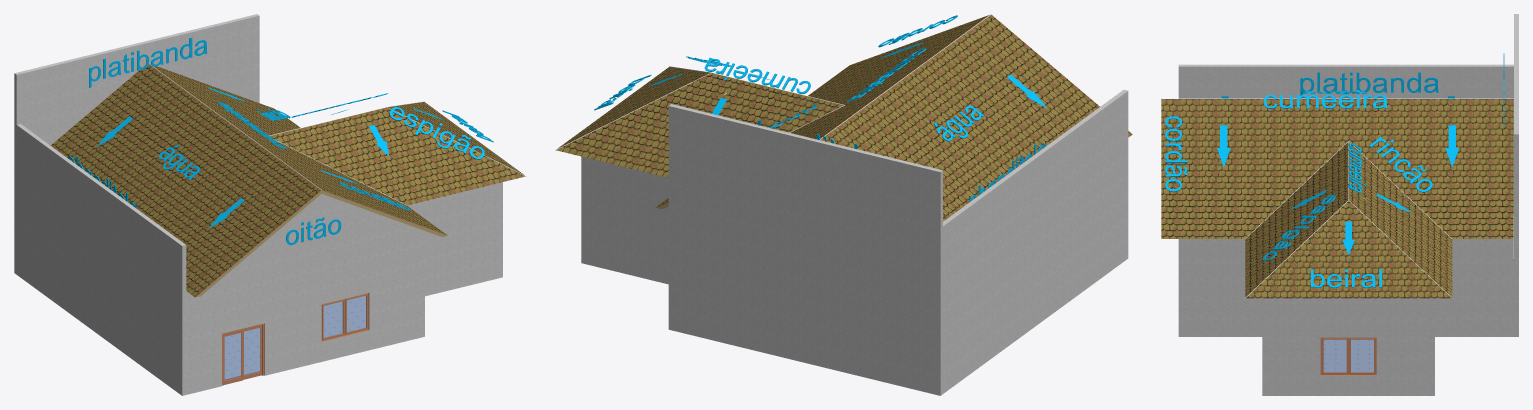
The model's file is casaaN.glb.
The picture shows the model from 3 angles, left to right: view 1: azimuth 30°, elevation 25°; view 2: azimuth 150°, elevation 25°; view 3: azimuth 270°, elevation 25°; orthographic projection. The views are drawn at different scales.
Visible parts, largest first — view 1: object 28, object 2, root, object 26, object 27; view 2: object 28, object 2, root; view 3: object 2, object 28, root, object 26, object 27, Pipe.
Part boxes in pixels (x1,y1,x2,y2): object 28: (14, 14, 502, 395); object 2: (50, 63, 525, 297); root: (68, 37, 493, 379); object 26: (224, 296, 366, 380); object 27: (222, 293, 369, 385); object 28: (581, 89, 1128, 395); object 2: (556, 14, 1132, 221); root: (594, 15, 1046, 202); object 2: (1161, 99, 1513, 298); object 28: (1178, 14, 1518, 395); root: (1165, 53, 1513, 372); object 26: (1323, 339, 1373, 372); object 27: (1320, 337, 1376, 375); Pipe: (1161, 98, 1513, 99).
Size of the model in its own units: 15.8 by 8 by 12.8.
Materials: 11 (4 with a texture image).
